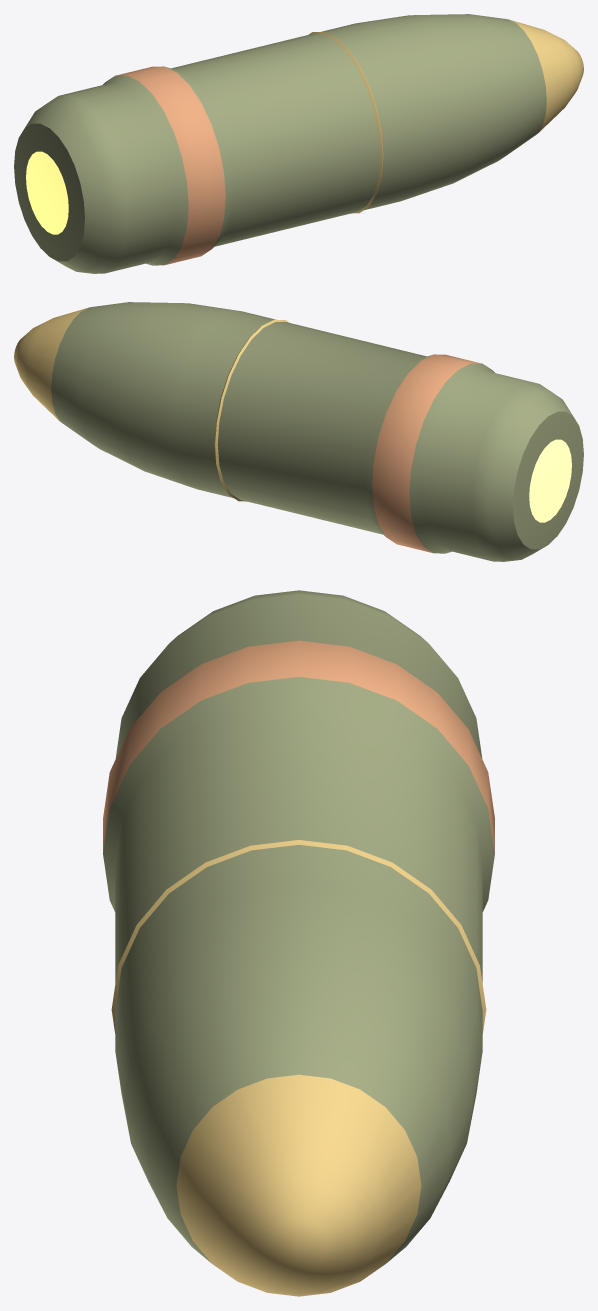
File: shell.glb
3 renders of one model, top to bottom at view 1: azimuth 30°, elevation 25°; view 2: azimuth 150°, elevation 25°; view 3: azimuth 270°, elevation 25°, orthographic. The views are drawn at different scales.
Visible parts, largest first — view 1: shell; view 2: shell; view 3: shell.
Part boxes in pixels (box(x1,y1,x2,y2)): shell: box(14, 14, 583, 273); shell: box(14, 302, 583, 561); shell: box(103, 590, 494, 1296).
Bounding box in the file's own units: 0.502 × 0.16 × 0.16.
